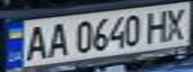0: (124, 11, 145, 47), (72, 18, 93, 54)
4: (109, 12, 130, 50)
6: (90, 16, 112, 52)
A: (21, 21, 51, 62), (42, 20, 72, 58)
H: (142, 8, 172, 44)
X: (160, 4, 193, 42)
